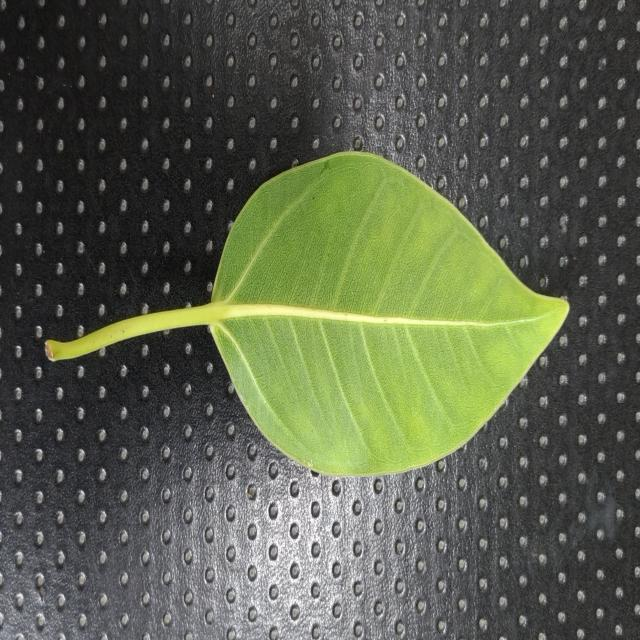camphor: (191, 151, 569, 476)
